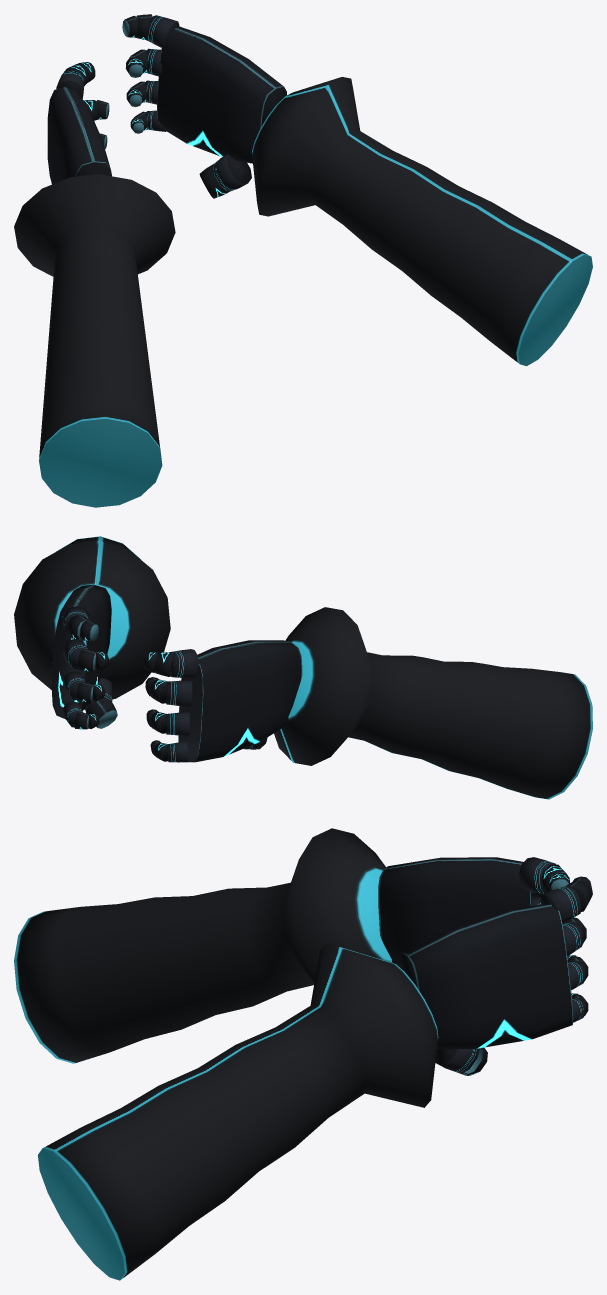
The model's file is arms_em57p.glb.
3 renders of one model, top to bottom at view 1: azimuth 30°, elevation 25°; view 2: azimuth 150°, elevation 25°; view 3: azimuth 270°, elevation 25°, orthographic. The views are drawn at different scales.
Parts seen in each view (by area): view 1: em57p_arm_right, em57p_arm_left; view 2: em57p_arm_left, em57p_arm_right; view 3: em57p_arm_right, em57p_arm_left.
Boxes of the visible parts, x1,y1,x2,y2 form: em57p_arm_right: (122,14,592,366); em57p_arm_left: (14,62,175,507); em57p_arm_left: (143,607,592,799); em57p_arm_right: (14,536,170,729); em57p_arm_right: (38,876,592,1280); em57p_arm_left: (14,828,569,1063).
Bounding box in the file's own units: 1.15 × 0.5417 × 0.8862.
1 material, 1 textured.
